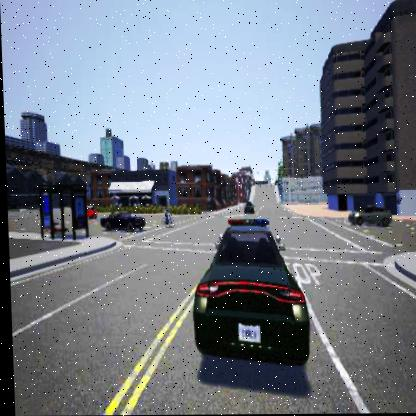bike: (159, 204, 172, 229)
vehicle: (187, 219, 308, 366), (345, 205, 389, 227), (98, 210, 143, 231), (241, 201, 256, 214)
